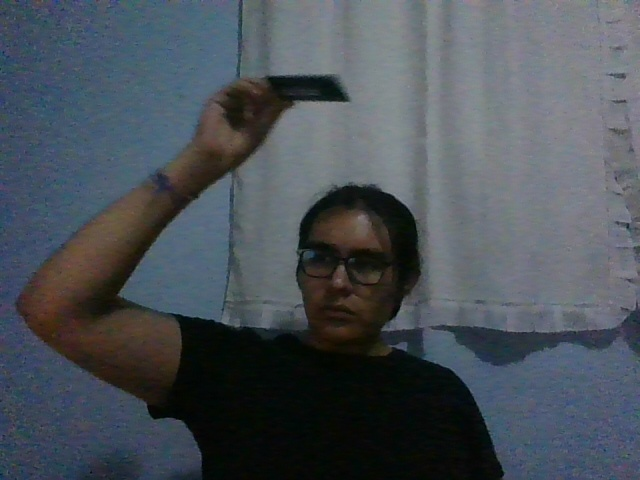tarjeta: (265, 74, 351, 103)
